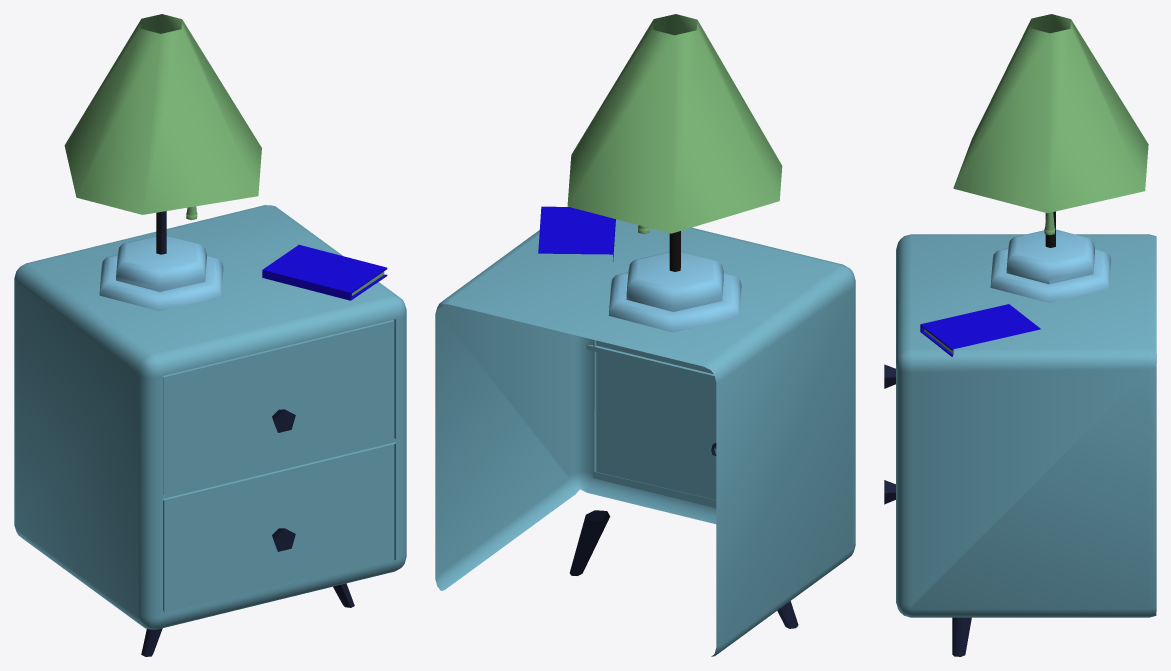
The model's file is komodin.fbx.
3 views of the same model, side by side, from view 1: azimuth 30°, elevation 25°; view 2: azimuth 150°, elevation 25°; view 3: azimuth 270°, elevation 25° (orthographic). The views are drawn at different scales.
Parts seen in each view (by area): view 1: komodin; view 2: komodin; view 3: komodin.
Boxes of the visible parts, bbox=[...] form: komodin: bbox=[14, 14, 406, 656]; komodin: bbox=[435, 14, 855, 656]; komodin: bbox=[884, 14, 1156, 656].
Bounding box in the file's own units: 58.56 × 120 × 52.63.
